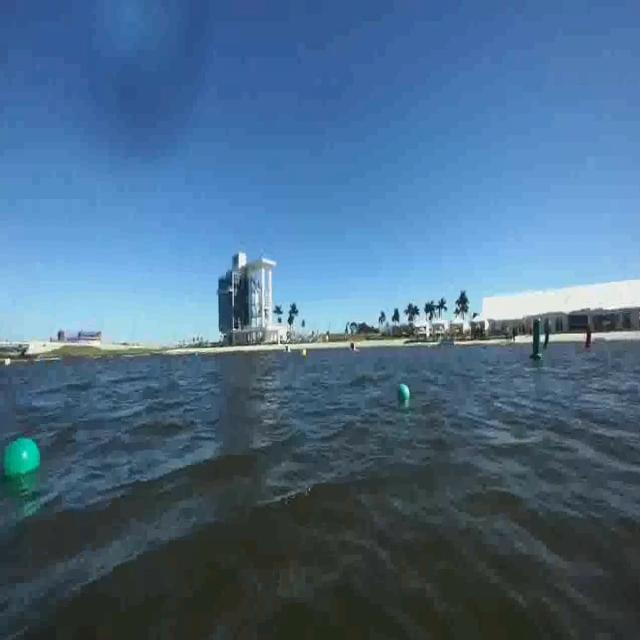green-buoy: (4, 438, 44, 480), (400, 383, 411, 399)
green-column-buoy: (528, 319, 543, 362), (541, 320, 551, 353)
red-column-buoy: (585, 326, 594, 352)
yellow-buoy: (300, 347, 306, 357)
